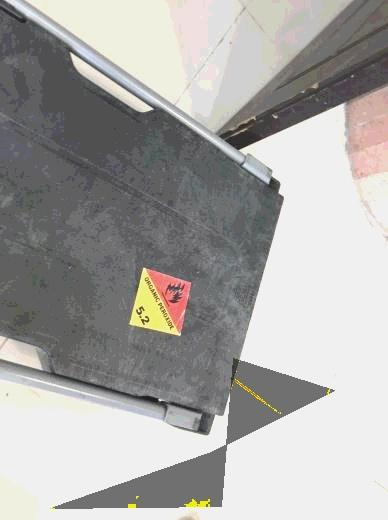organic-peroxide: (128, 267, 192, 337)
